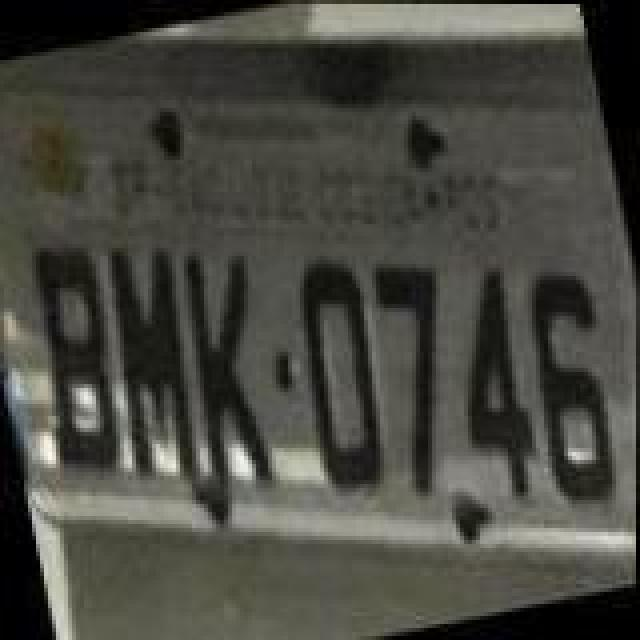4: (436, 256, 552, 500)
6: (510, 258, 638, 510)
7: (366, 244, 494, 496)
B: (12, 234, 136, 478)
K: (164, 238, 296, 494)
M: (88, 232, 220, 488)
O: (280, 252, 404, 496)
